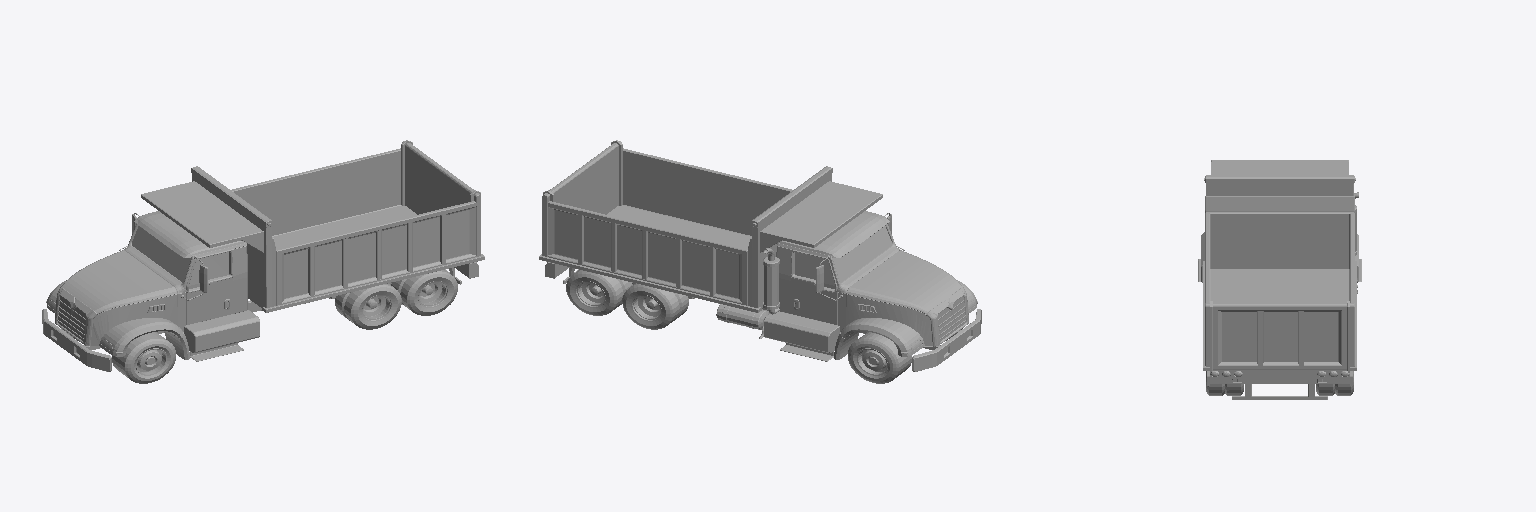
The model's file is truck4.obj.
3 views of the same model, side by side, from view 1: azimuth 30°, elevation 25°; view 2: azimuth 150°, elevation 25°; view 3: azimuth 270°, elevation 25° (orthographic).
Visible parts, largest first — view 1: Truck_TruckObject; view 2: Truck_TruckObject; view 3: Truck_TruckObject.
Part boxes in pixels (x1,y1,x2,y2): Truck_TruckObject: (42,140,484,383); Truck_TruckObject: (539,140,981,383); Truck_TruckObject: (1198,160,1361,399).
Bounding box in the file's own units: 20.79 × 7.07 × 7.7.